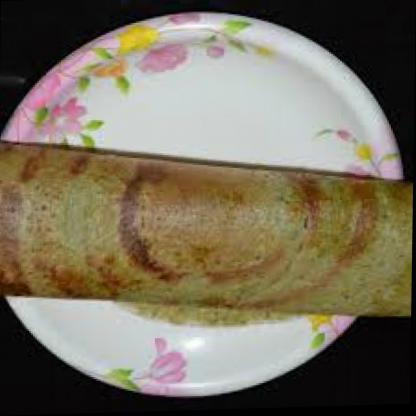dosa: (0, 131, 414, 332)
